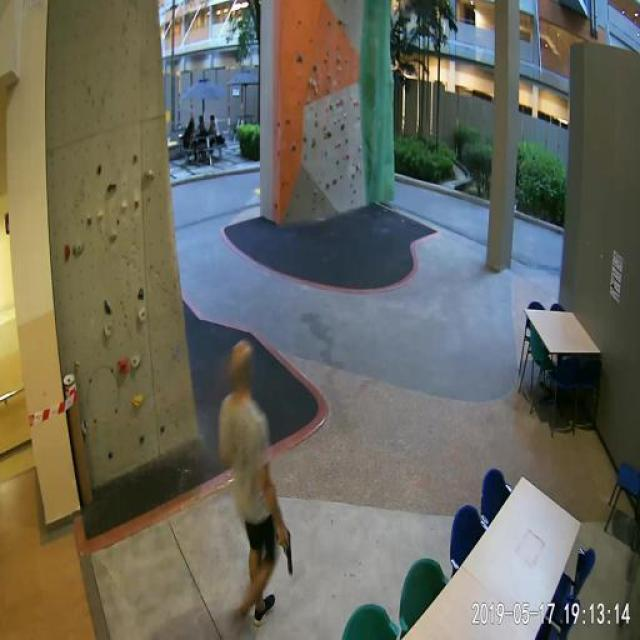Gun: (278, 524, 300, 581)
